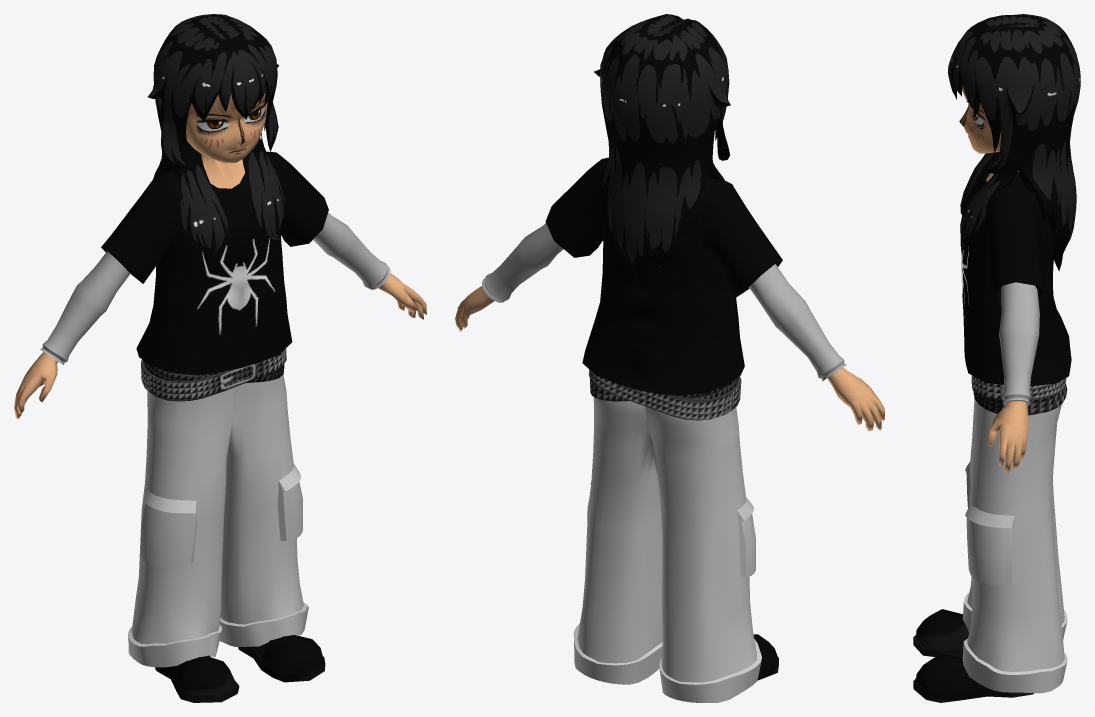
File: GameCharacter.fbx
3 renders of one model, left to right at view 1: azimuth 30°, elevation 25°; view 2: azimuth 150°, elevation 25°; view 3: azimuth 270°, elevation 25°, orthographic. The views are drawn at different scales.
Visible parts, largest first — view 1: pants, shirt, hair, Base, sleeves, belt, belt.001; view 2: pants, shirt, hair, sleeves, Base, belt, belt.001; view 3: pants, hair, shirt, Base, sleeves, belt, belt.001.
Boxes of the visible parts, left/top/right/bottom form: pants: left=128, top=374, right=308, bottom=667; shirt: left=101, top=151, right=328, bottom=374; hair: left=147, top=14, right=284, bottom=255; Base: left=14, top=87, right=426, bottom=702; sleeves: left=40, top=212, right=390, bottom=364; belt: left=141, top=348, right=286, bottom=401; belt.001: left=143, top=360, right=284, bottom=383; pants: left=573, top=397, right=761, bottom=702; shirt: left=545, top=157, right=782, bottom=395; hair: left=594, top=14, right=730, bottom=295; sleeves: left=482, top=223, right=846, bottom=381; Base: left=455, top=286, right=884, bottom=702; belt: left=588, top=369, right=741, bottom=420; belt.001: left=590, top=377, right=738, bottom=401; pants: left=962, top=399, right=1067, bottom=693; hair: left=948, top=14, right=1080, bottom=271; shirt: left=960, top=158, right=1071, bottom=385; Base: left=913, top=85, right=1034, bottom=702; sleeves: left=999, top=282, right=1039, bottom=405; belt: left=971, top=375, right=1066, bottom=400; belt.001: left=973, top=384, right=1067, bottom=415.
Size of the model in its own units: 113 by 168 by 39.39.
